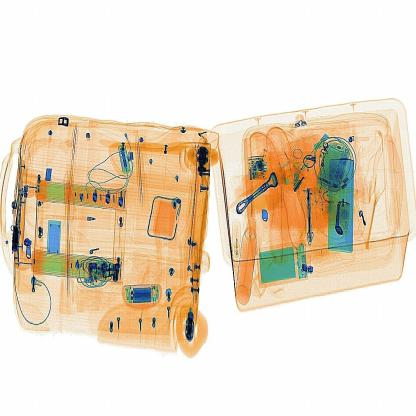knife: (306, 182, 315, 246)
